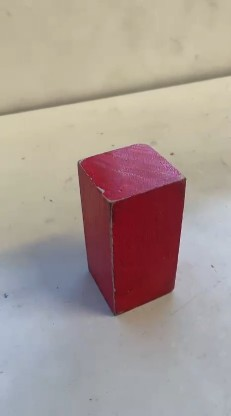red: (90, 147, 176, 303)
